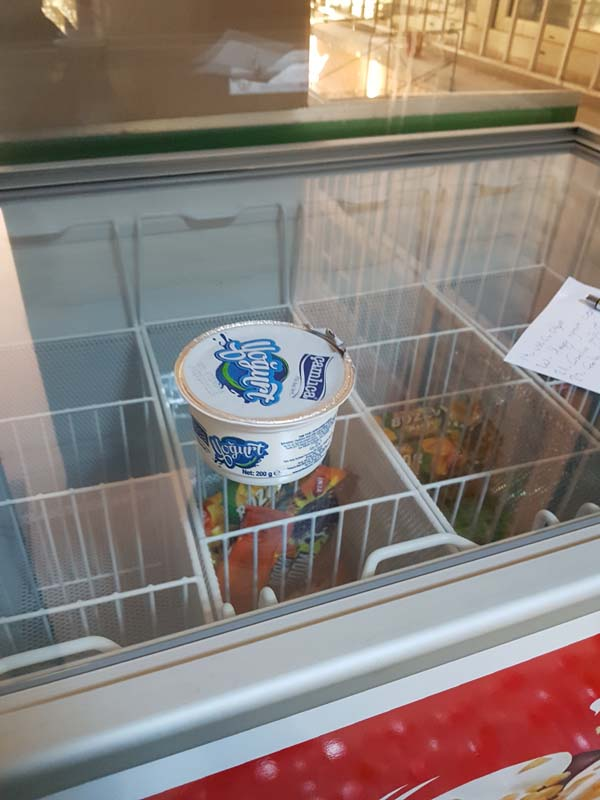camlicayogurt: (168, 312, 368, 487)
